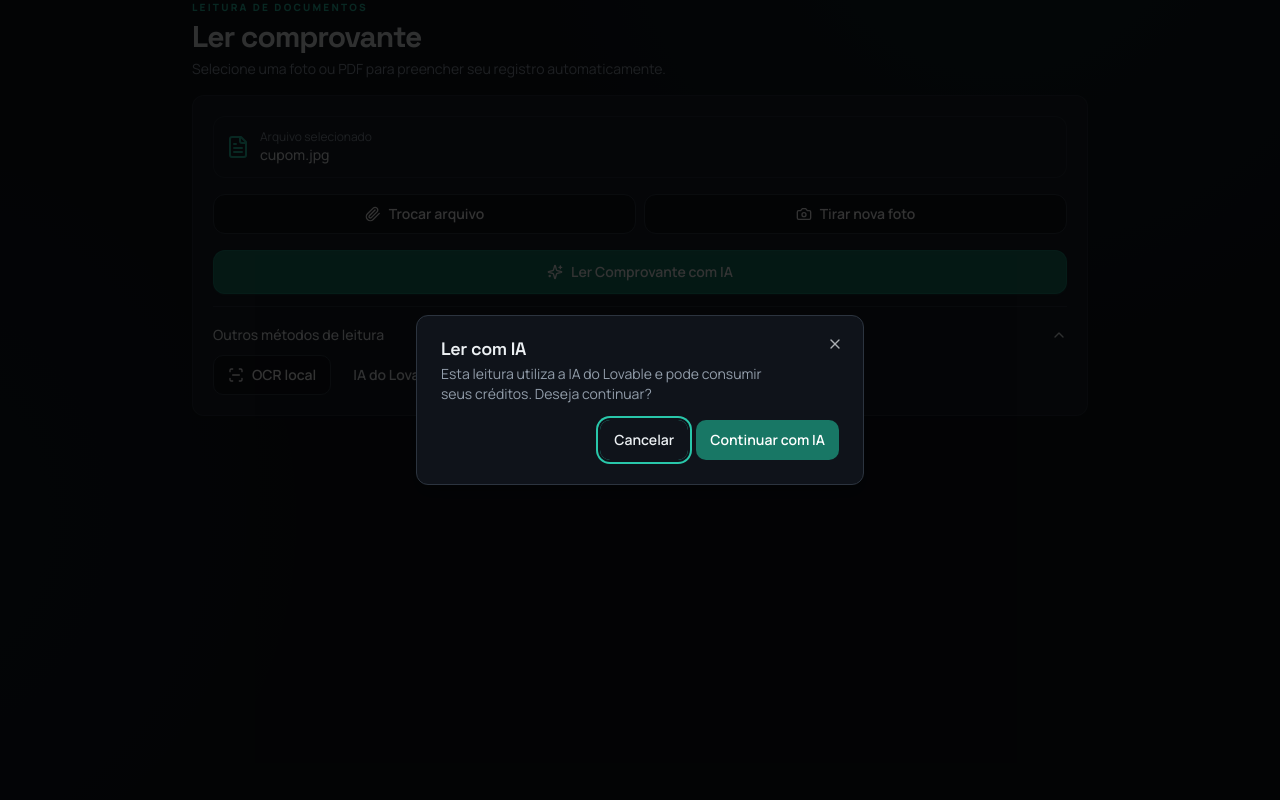
Scenario: ReceiptImport free external AI reader (test) › single-flight paid receipt reading › sends one request for ten rapid confirmations and permits retry after failure
This screenshot has width=1280, height=800.
Earlier steps of the test are not shown.
Later steps or results of the test are not shown.
Step 1. Click the button "Continuar com IA" → (768, 440), box left=696, top=420, right=839, bottom=460
Step 2. Click the button "Continuar com IA" → (768, 440), box left=696, top=420, right=839, bottom=460
Step 3. Click the button "Continuar com IA" → (768, 440), box left=696, top=420, right=839, bottom=460
Step 4. Click the button "Continuar com IA" → (768, 440), box left=696, top=420, right=839, bottom=460
Step 5. Click the button "Continuar com IA" → (768, 440), box left=696, top=420, right=839, bottom=460
Step 6. Click the button "Continuar com IA" → (768, 440), box left=696, top=420, right=839, bottom=460
Step 7. Click the button "Continuar com IA" → (768, 440), box left=696, top=420, right=839, bottom=460
Step 8. Click the button "Continuar com IA" → (768, 440), box left=696, top=420, right=839, bottom=460
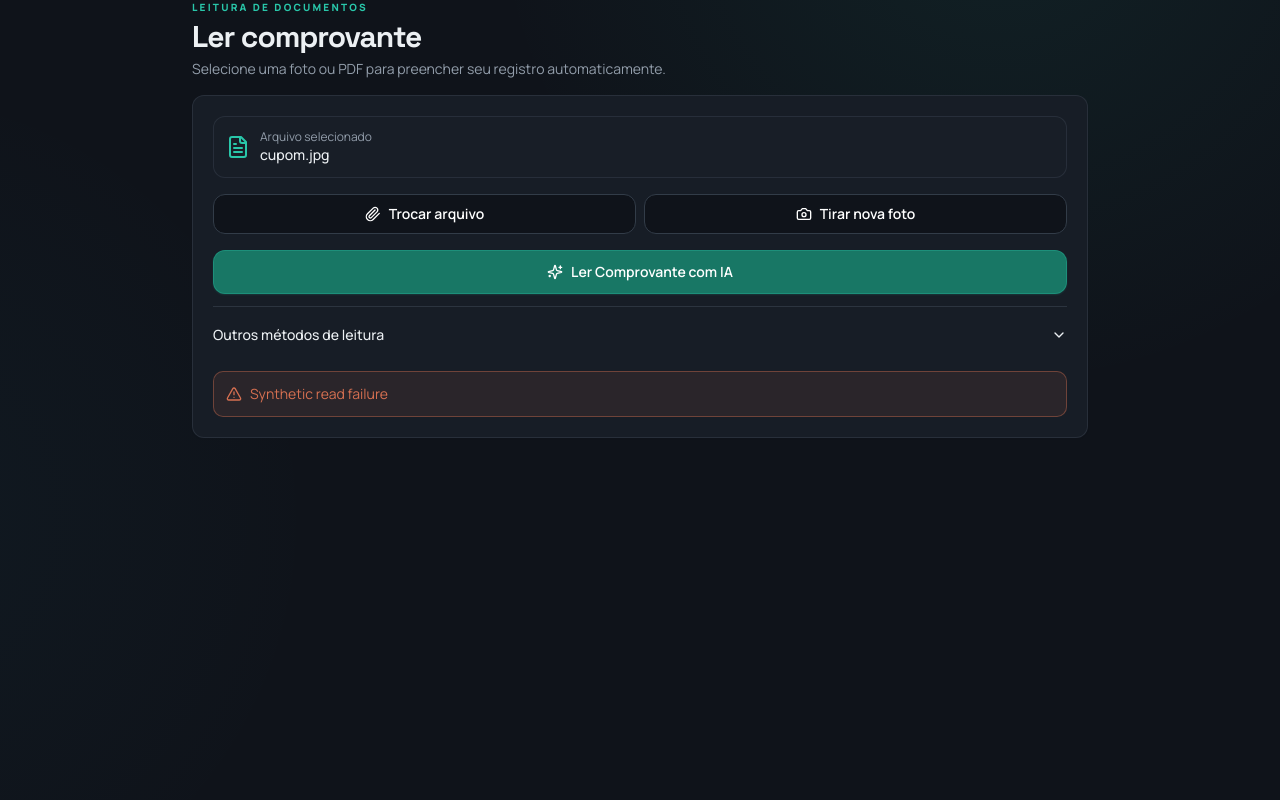
Expected: the text "Synthetic read failure" is shown, left=250, top=384, right=388, bottom=403
